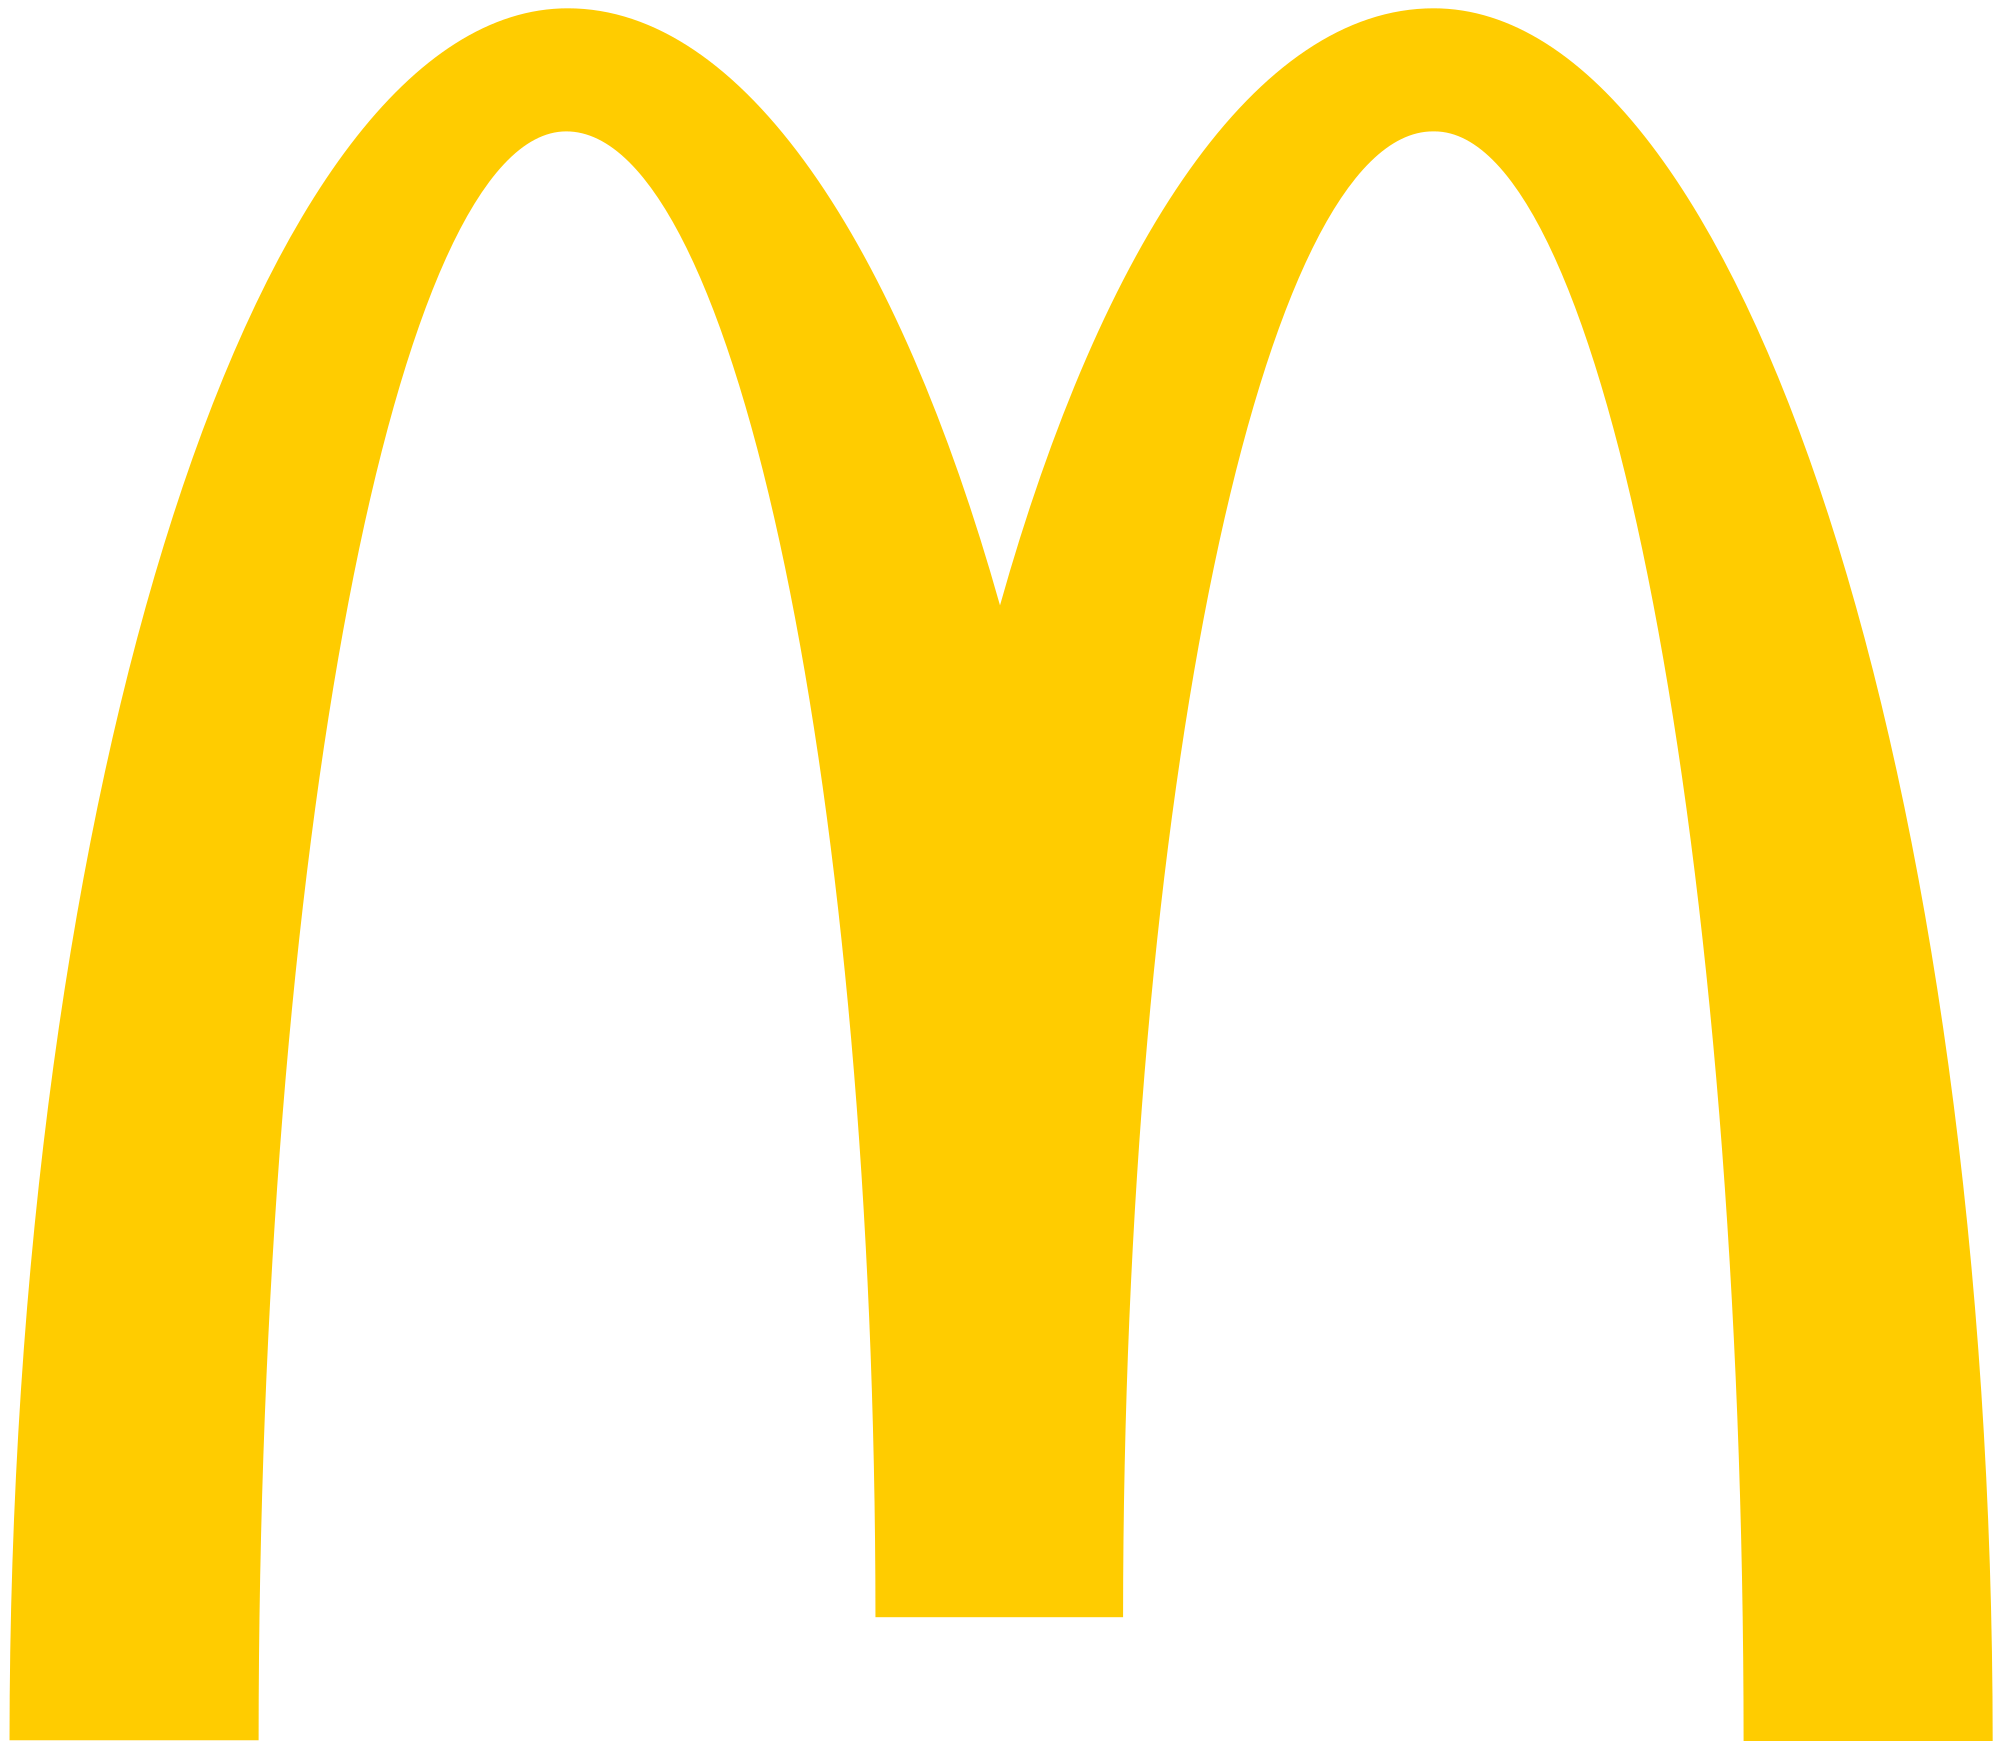mcdonalds: (9, 7, 1993, 1736)
